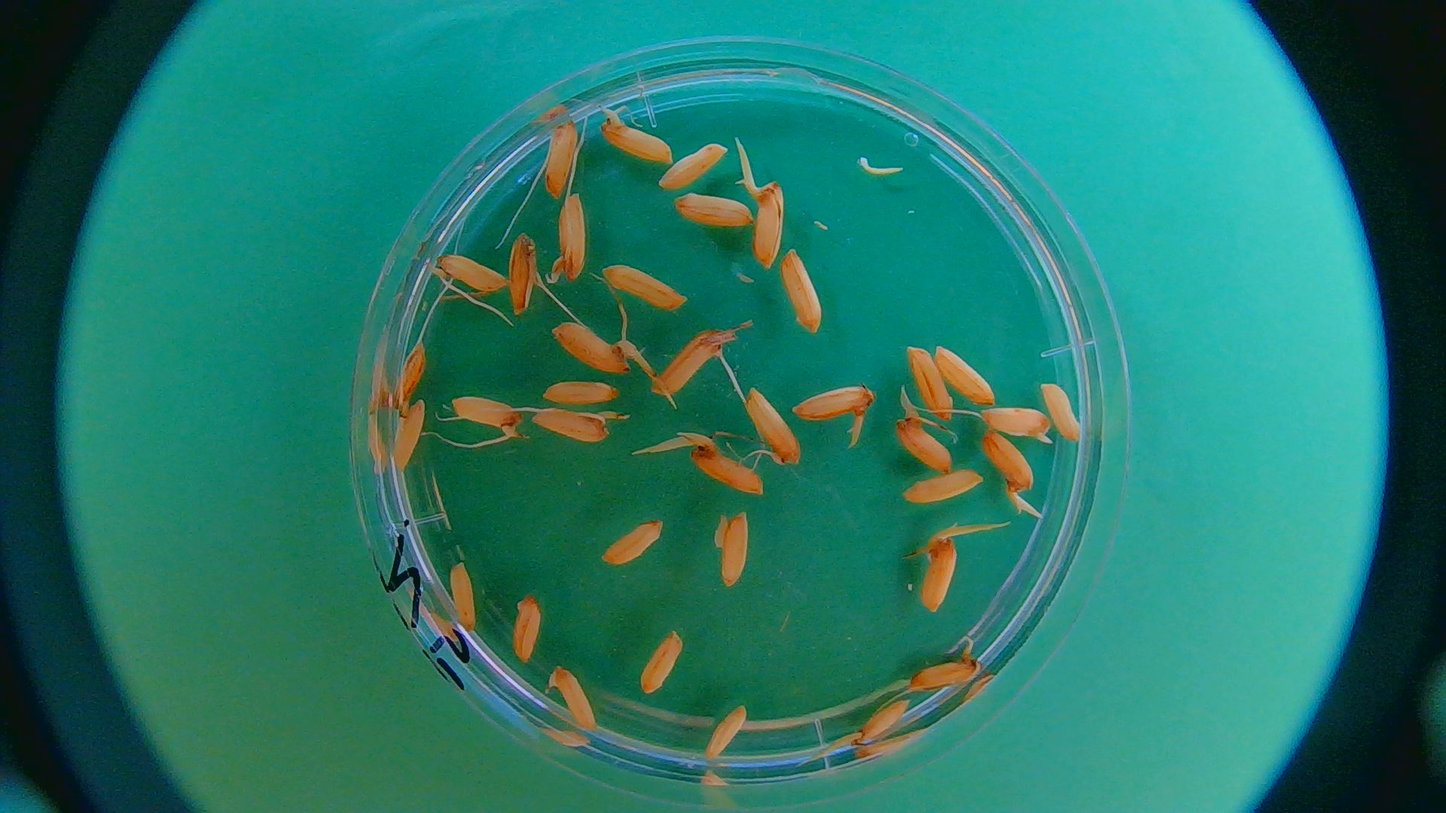no: (774, 244, 832, 338), (933, 333, 1001, 410), (598, 259, 690, 314), (907, 346, 962, 421), (655, 139, 731, 192), (670, 191, 755, 238), (545, 662, 602, 732), (552, 193, 592, 285), (596, 516, 667, 566), (444, 559, 486, 640), (639, 627, 686, 699), (389, 394, 428, 475), (901, 469, 985, 506), (1039, 380, 1086, 446), (392, 336, 432, 412), (715, 509, 752, 589), (706, 703, 750, 762), (511, 593, 545, 668), (538, 378, 622, 406)
yes: (650, 330, 725, 397), (743, 388, 798, 467), (691, 438, 764, 496), (549, 324, 628, 376), (599, 114, 679, 164), (978, 429, 1033, 497), (892, 419, 956, 474), (746, 177, 783, 271), (904, 650, 979, 696), (791, 385, 872, 427), (980, 403, 1056, 446), (440, 251, 505, 301), (845, 697, 914, 744), (507, 228, 541, 320), (923, 534, 960, 617), (529, 408, 609, 446), (450, 395, 522, 433), (544, 117, 576, 202)
